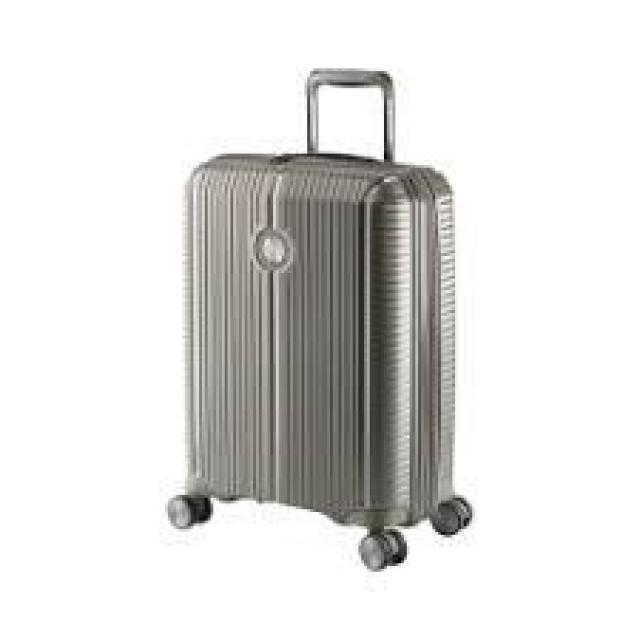luggage: (176, 145, 464, 536)
